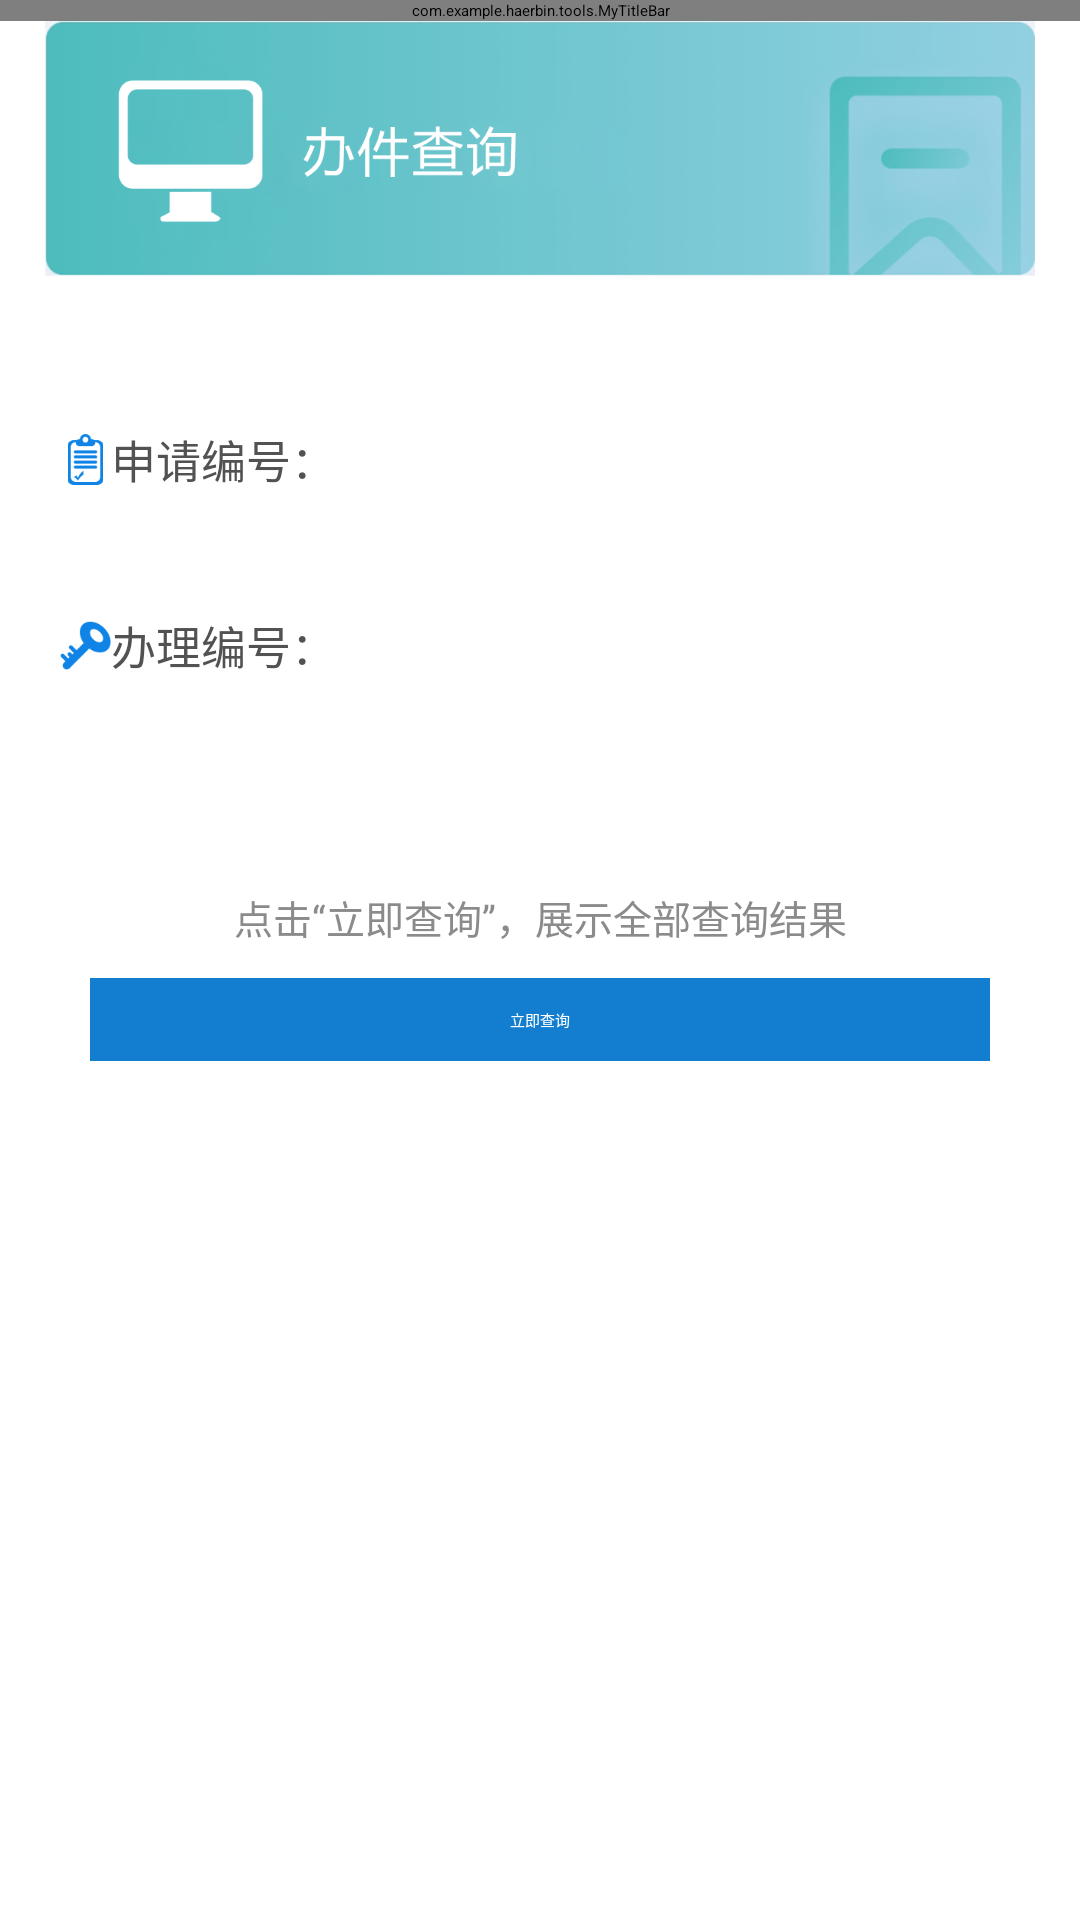

Screen size 1080 x 1920. Icon name, then its center in pixels as (x,y):
dowork key: (85,645)
